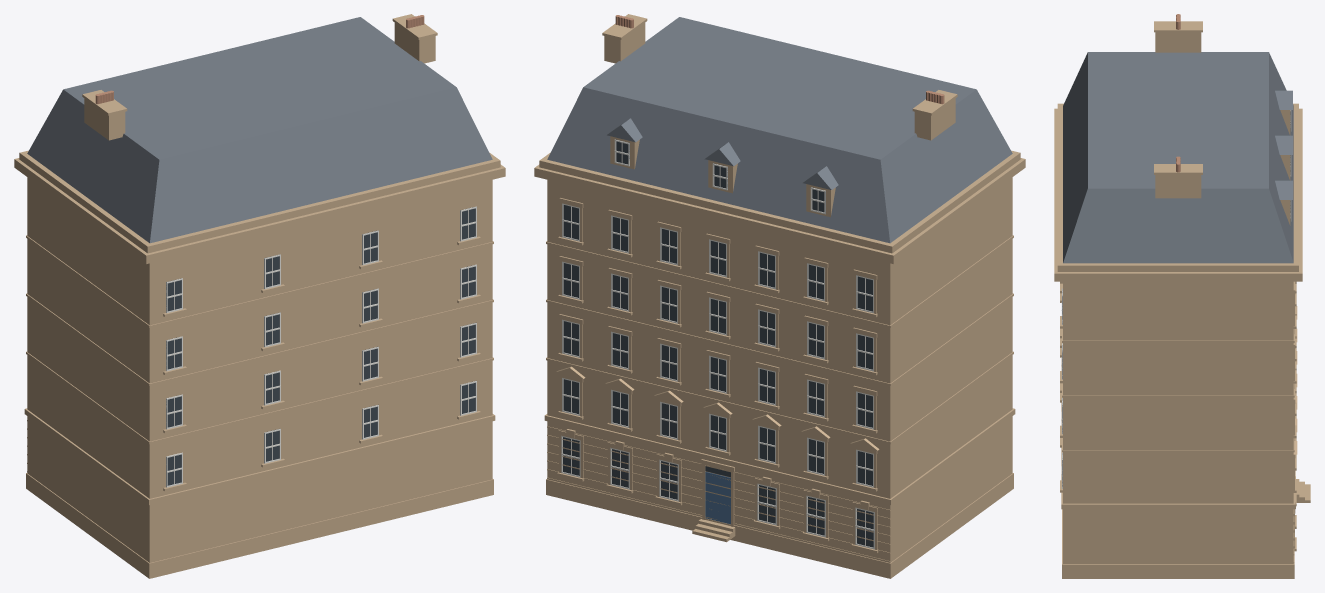
File: classical5.glb
The picture shows the model from 3 angles, left to right: view 1: azimuth 30°, elevation 25°; view 2: azimuth 150°, elevation 25°; view 3: azimuth 270°, elevation 25°; orthographic projection. The views are drawn at different scales.
Visible parts, largest first — view 1: classical5; view 2: classical5; view 3: classical5.
Part boxes in pixels (x1,y1,x2,y2): classical5: (14, 14, 505, 578); classical5: (534, 14, 1025, 578); classical5: (1054, 14, 1310, 578).
Size of the model in its own units: 22 by 25.52 by 14.46.
